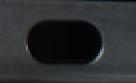holes: (23, 18, 106, 66)
